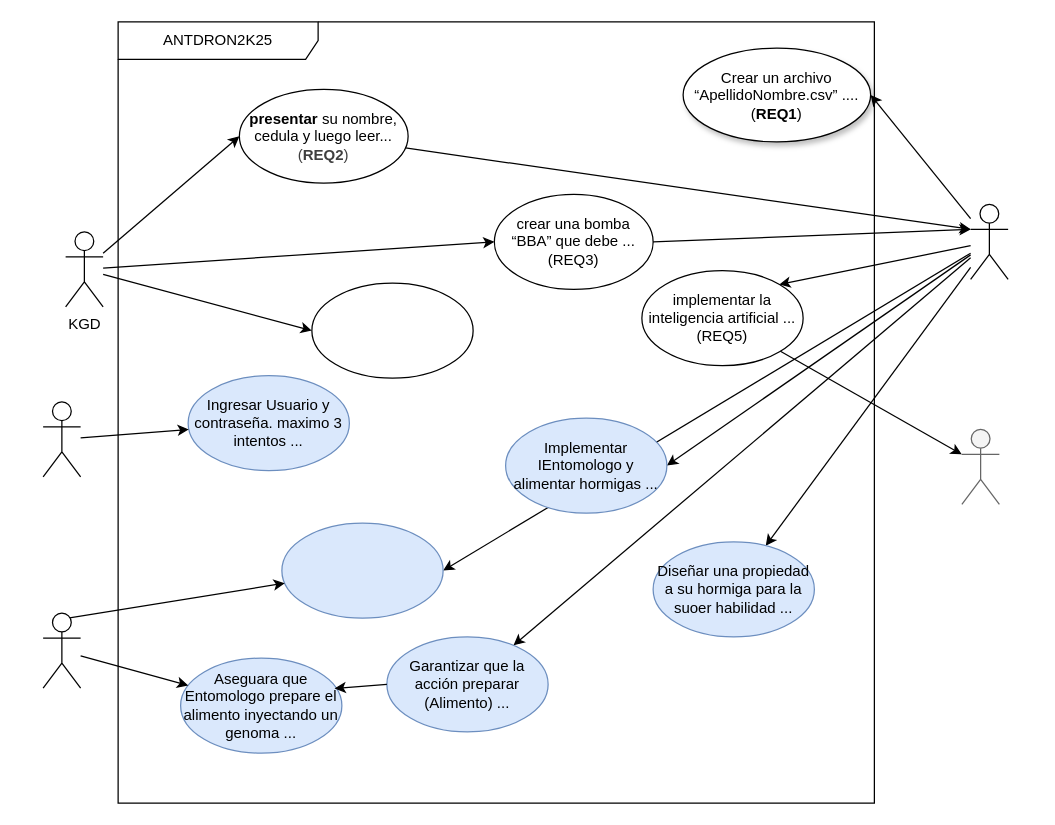
Some shapes in this 1055 by 825 pixel diagram are drawn without their labels. The shapes that lost their labels are listed below. From the top down, each one's centre as x and y in pixels, then its label:
(x=988, y=241): SistemaRuso
(x=392, y=330): crear un tipo de hormiga que derive de ... (REQ4)
(x=61, y=439): Usuario
(x=980, y=466): AntCiberDron
(x=362, y=570): Cosechar desde el storage hormiga y comida ,,,
(x=61, y=650): Entomologo
